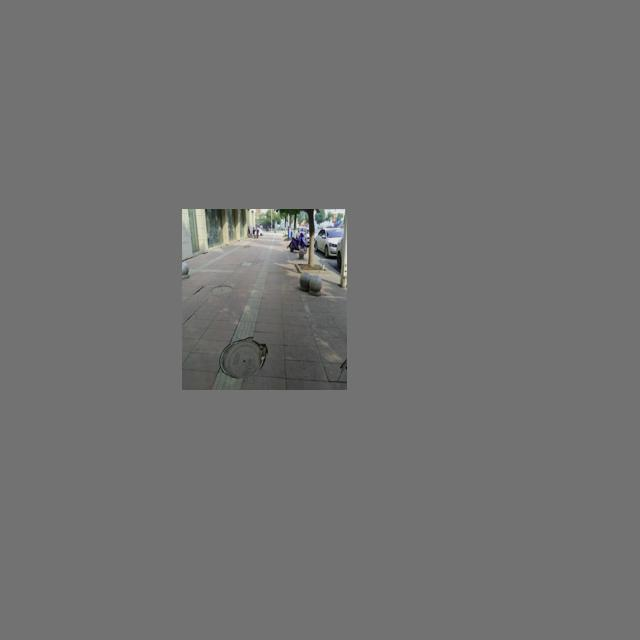good: (210, 285, 233, 293)
uncovered: (219, 339, 266, 379)
